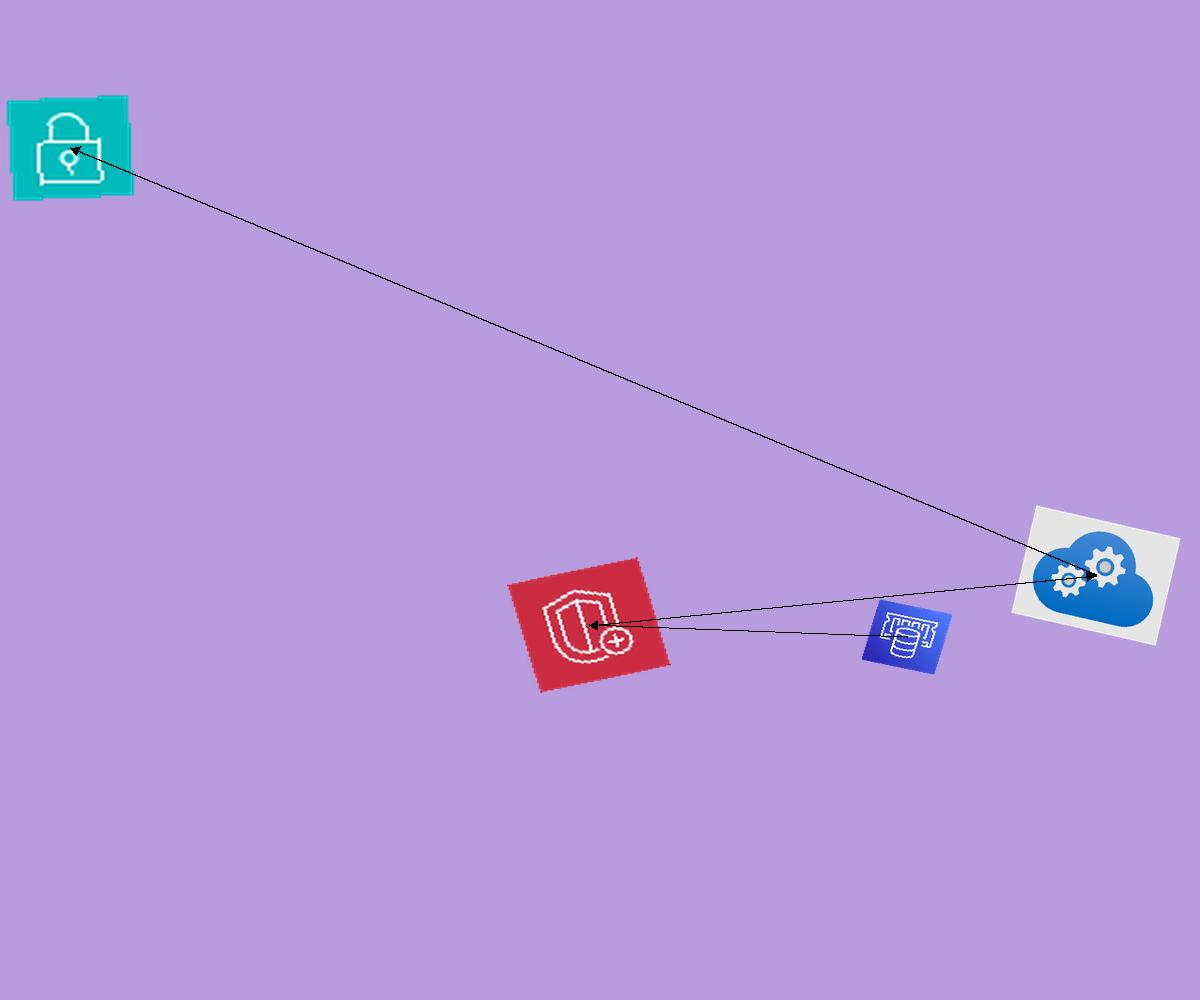AWS-ElastiCache: (861, 599, 953, 675)
AWS-Private-subnet: (4, 93, 137, 203)
AWS-Shield: (507, 557, 671, 693)
Azure_cloud_services: (1011, 505, 1181, 646)
